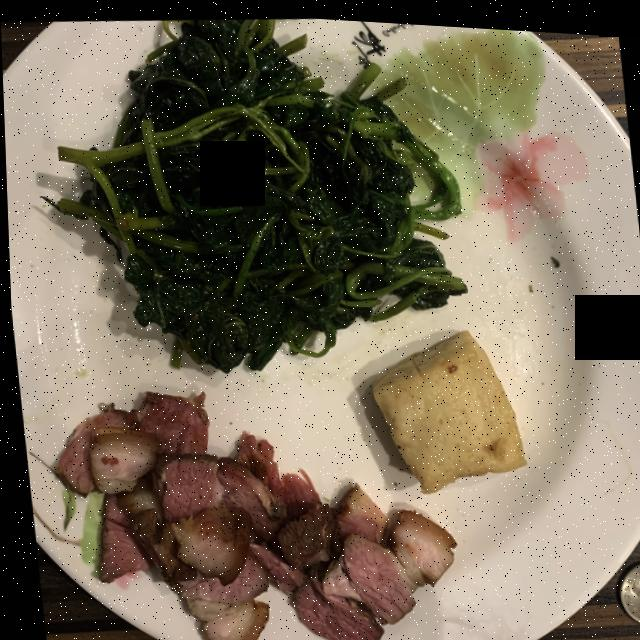coin: (613, 554, 640, 616)
creamy tofu -without sauce-: (369, 325, 521, 488)
grilled pork: (51, 390, 450, 640)
sweet potato leaves: (52, 15, 462, 369)
